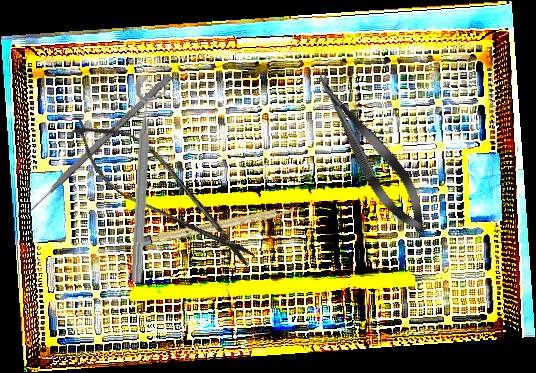Fixation Ring: (124, 74, 170, 284)
Micro Scissor: (58, 103, 270, 282), (302, 60, 439, 243)
Pusher: (19, 72, 173, 222)
Scalpel Handle: (134, 204, 298, 248)
